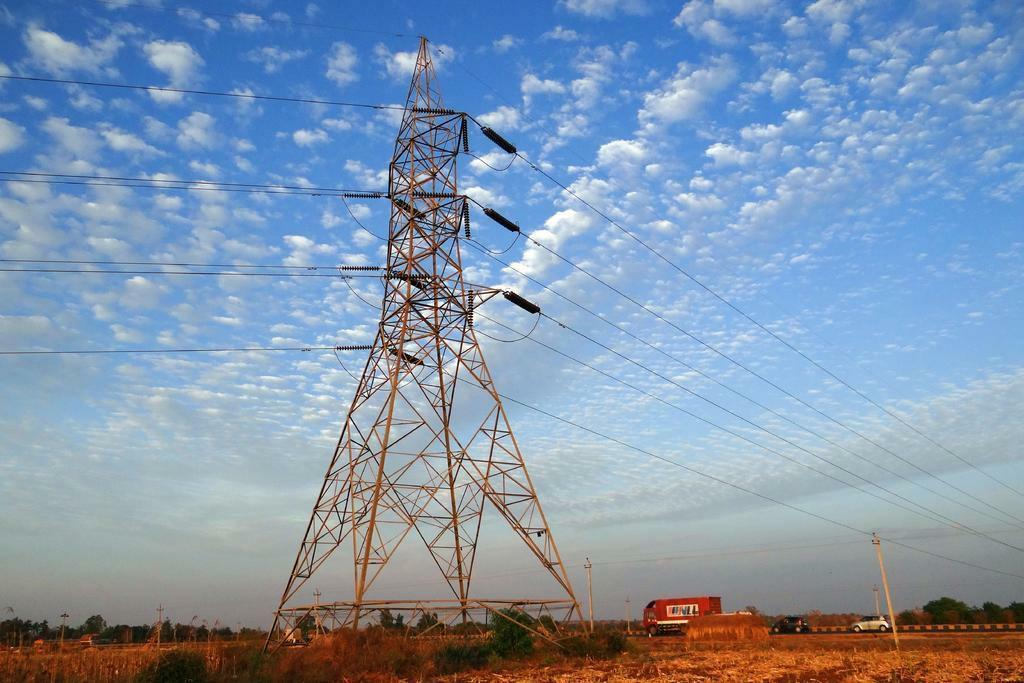power_tower: (281, 33, 599, 644)
